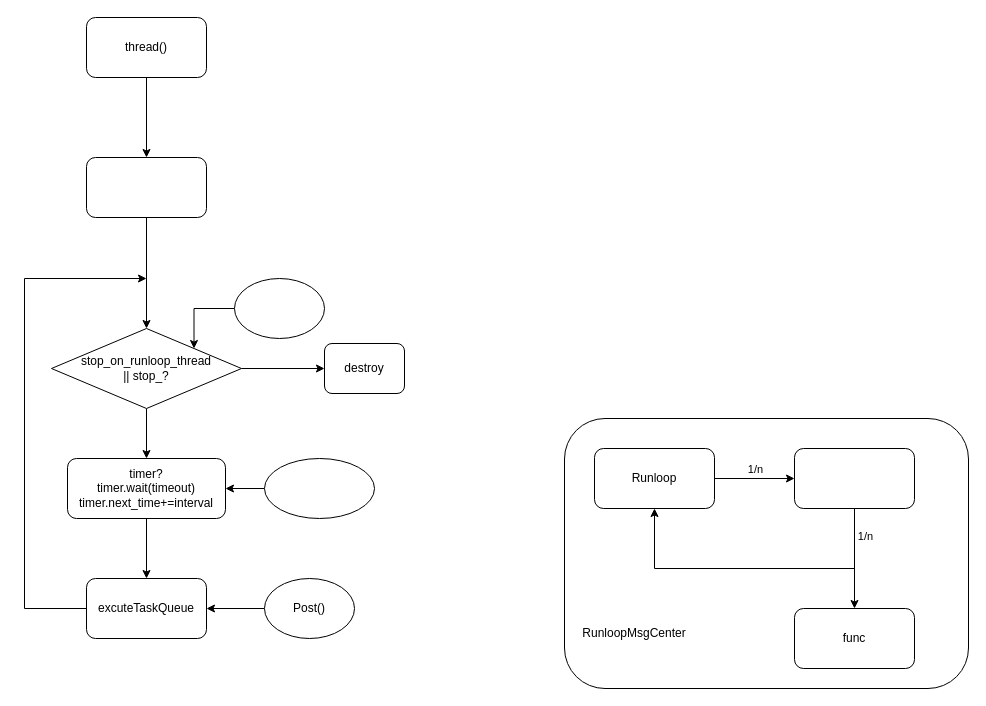
Image size: 986x706. Some labels were removed from this diagram. Here are the shapes that lost their labels. From the top down, the box of each, then its label:
(86, 156, 206, 218): setThreadName()
(234, 278, 324, 338): Stop()
(264, 458, 374, 518): AddTimer RemoveTimer
(794, 448, 914, 508): string
